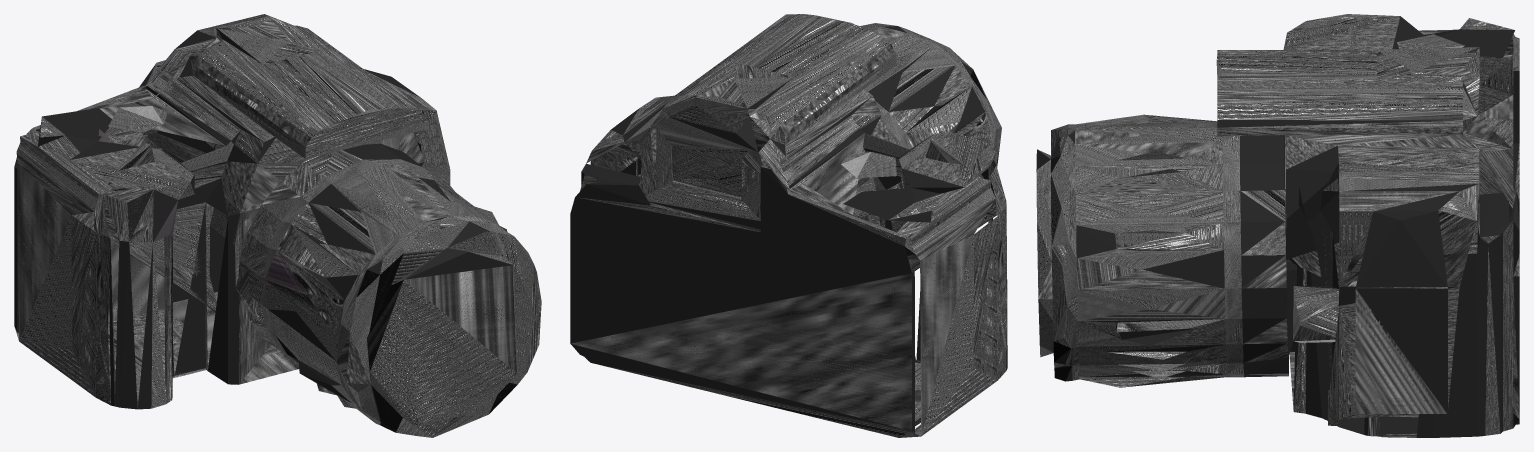
File: model_align.obj
3 views of the same model, side by side, from view 1: azimuth 30°, elevation 25°; view 2: azimuth 150°, elevation 25°; view 3: azimuth 270°, elevation 25° (orthographic). The views are drawn at different scales.
Bounding box in the file's own units: 0.1796 × 0.1346 × 0.1905.
